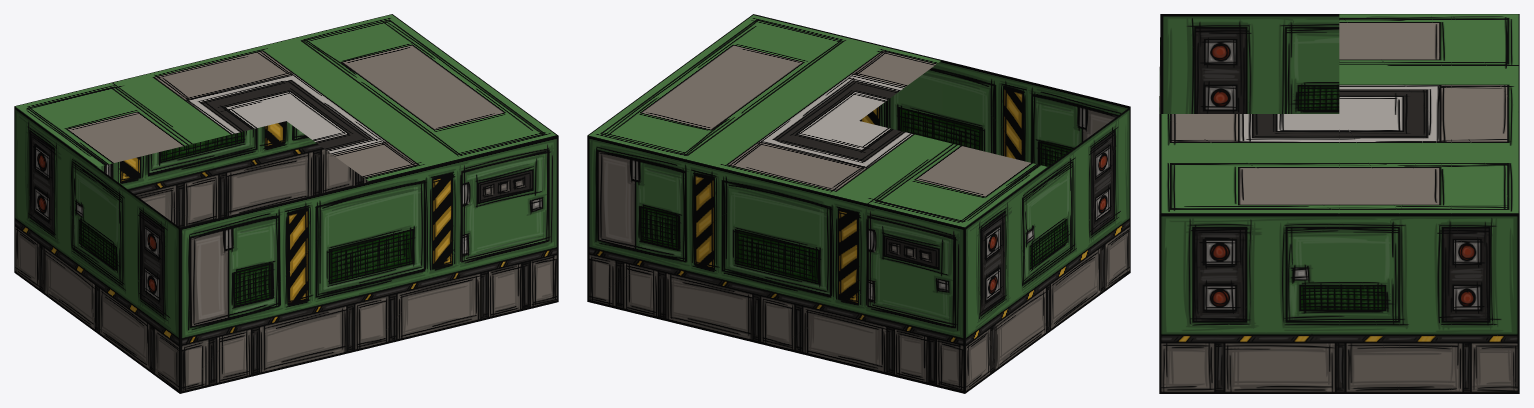
Rendered from Generator3.fbx.
3 renders of one model, left to right at view 1: azimuth 30°, elevation 25°; view 2: azimuth 150°, elevation 25°; view 3: azimuth 270°, elevation 25°, orthographic. The views are drawn at different scales.
Visible parts, largest first — view 1: Generator4; view 2: Generator4; view 3: Generator4.
Boxes of the visible parts, box(x1,y1,x2,y2) form: Generator4: box(14, 14, 558, 393); Generator4: box(587, 14, 1130, 393); Generator4: box(1159, 14, 1519, 393).
Size of the model in its own units: 512 by 215 by 390.
